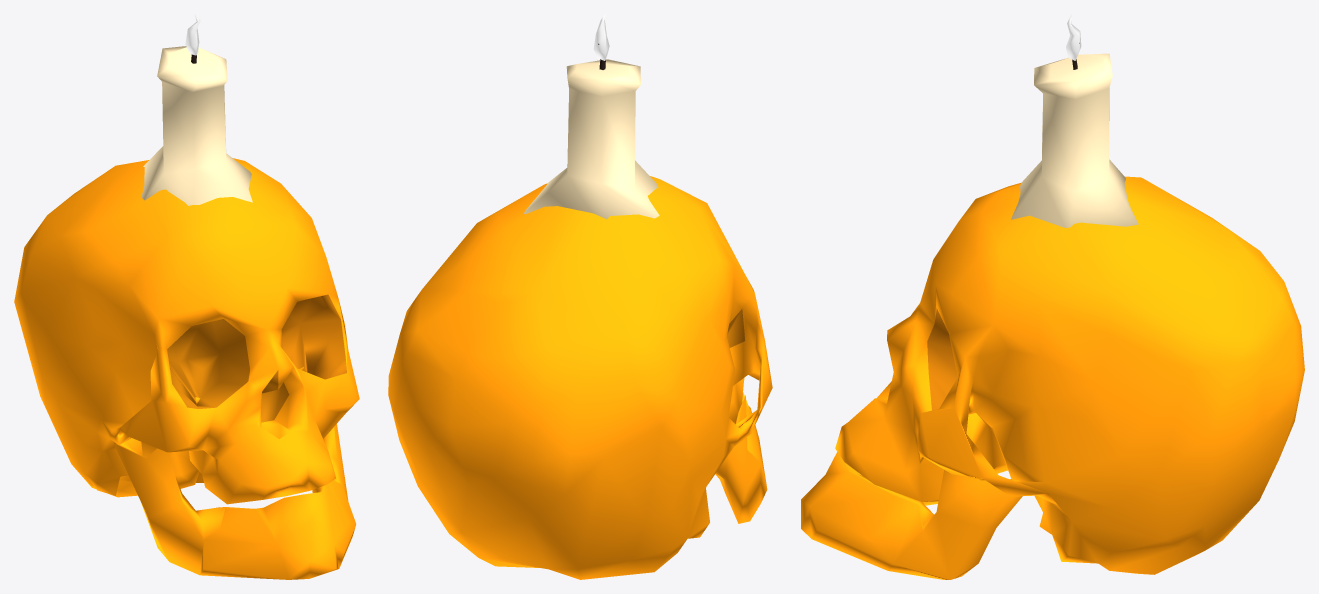
The model's file is CandleSkullShapeB.007.glb.
3 views of the same model, side by side, from view 1: azimuth 30°, elevation 25°; view 2: azimuth 150°, elevation 25°; view 3: azimuth 270°, elevation 25° (orthographic). The views are drawn at different scales.
Visible parts, largest first — view 1: CandleSkullShapeB.007; view 2: CandleSkullShapeB.007; view 3: CandleSkullShapeB.007.
Part boxes in pixels (box(x1,y1,x2,y2)): CandleSkullShapeB.007: box(14, 14, 359, 579); CandleSkullShapeB.007: box(388, 14, 772, 579); CandleSkullShapeB.007: box(801, 14, 1304, 579).
Size of the model in its own units: 0.2005 by 0.3649 by 0.3132.
2 materials, 2 textured.
